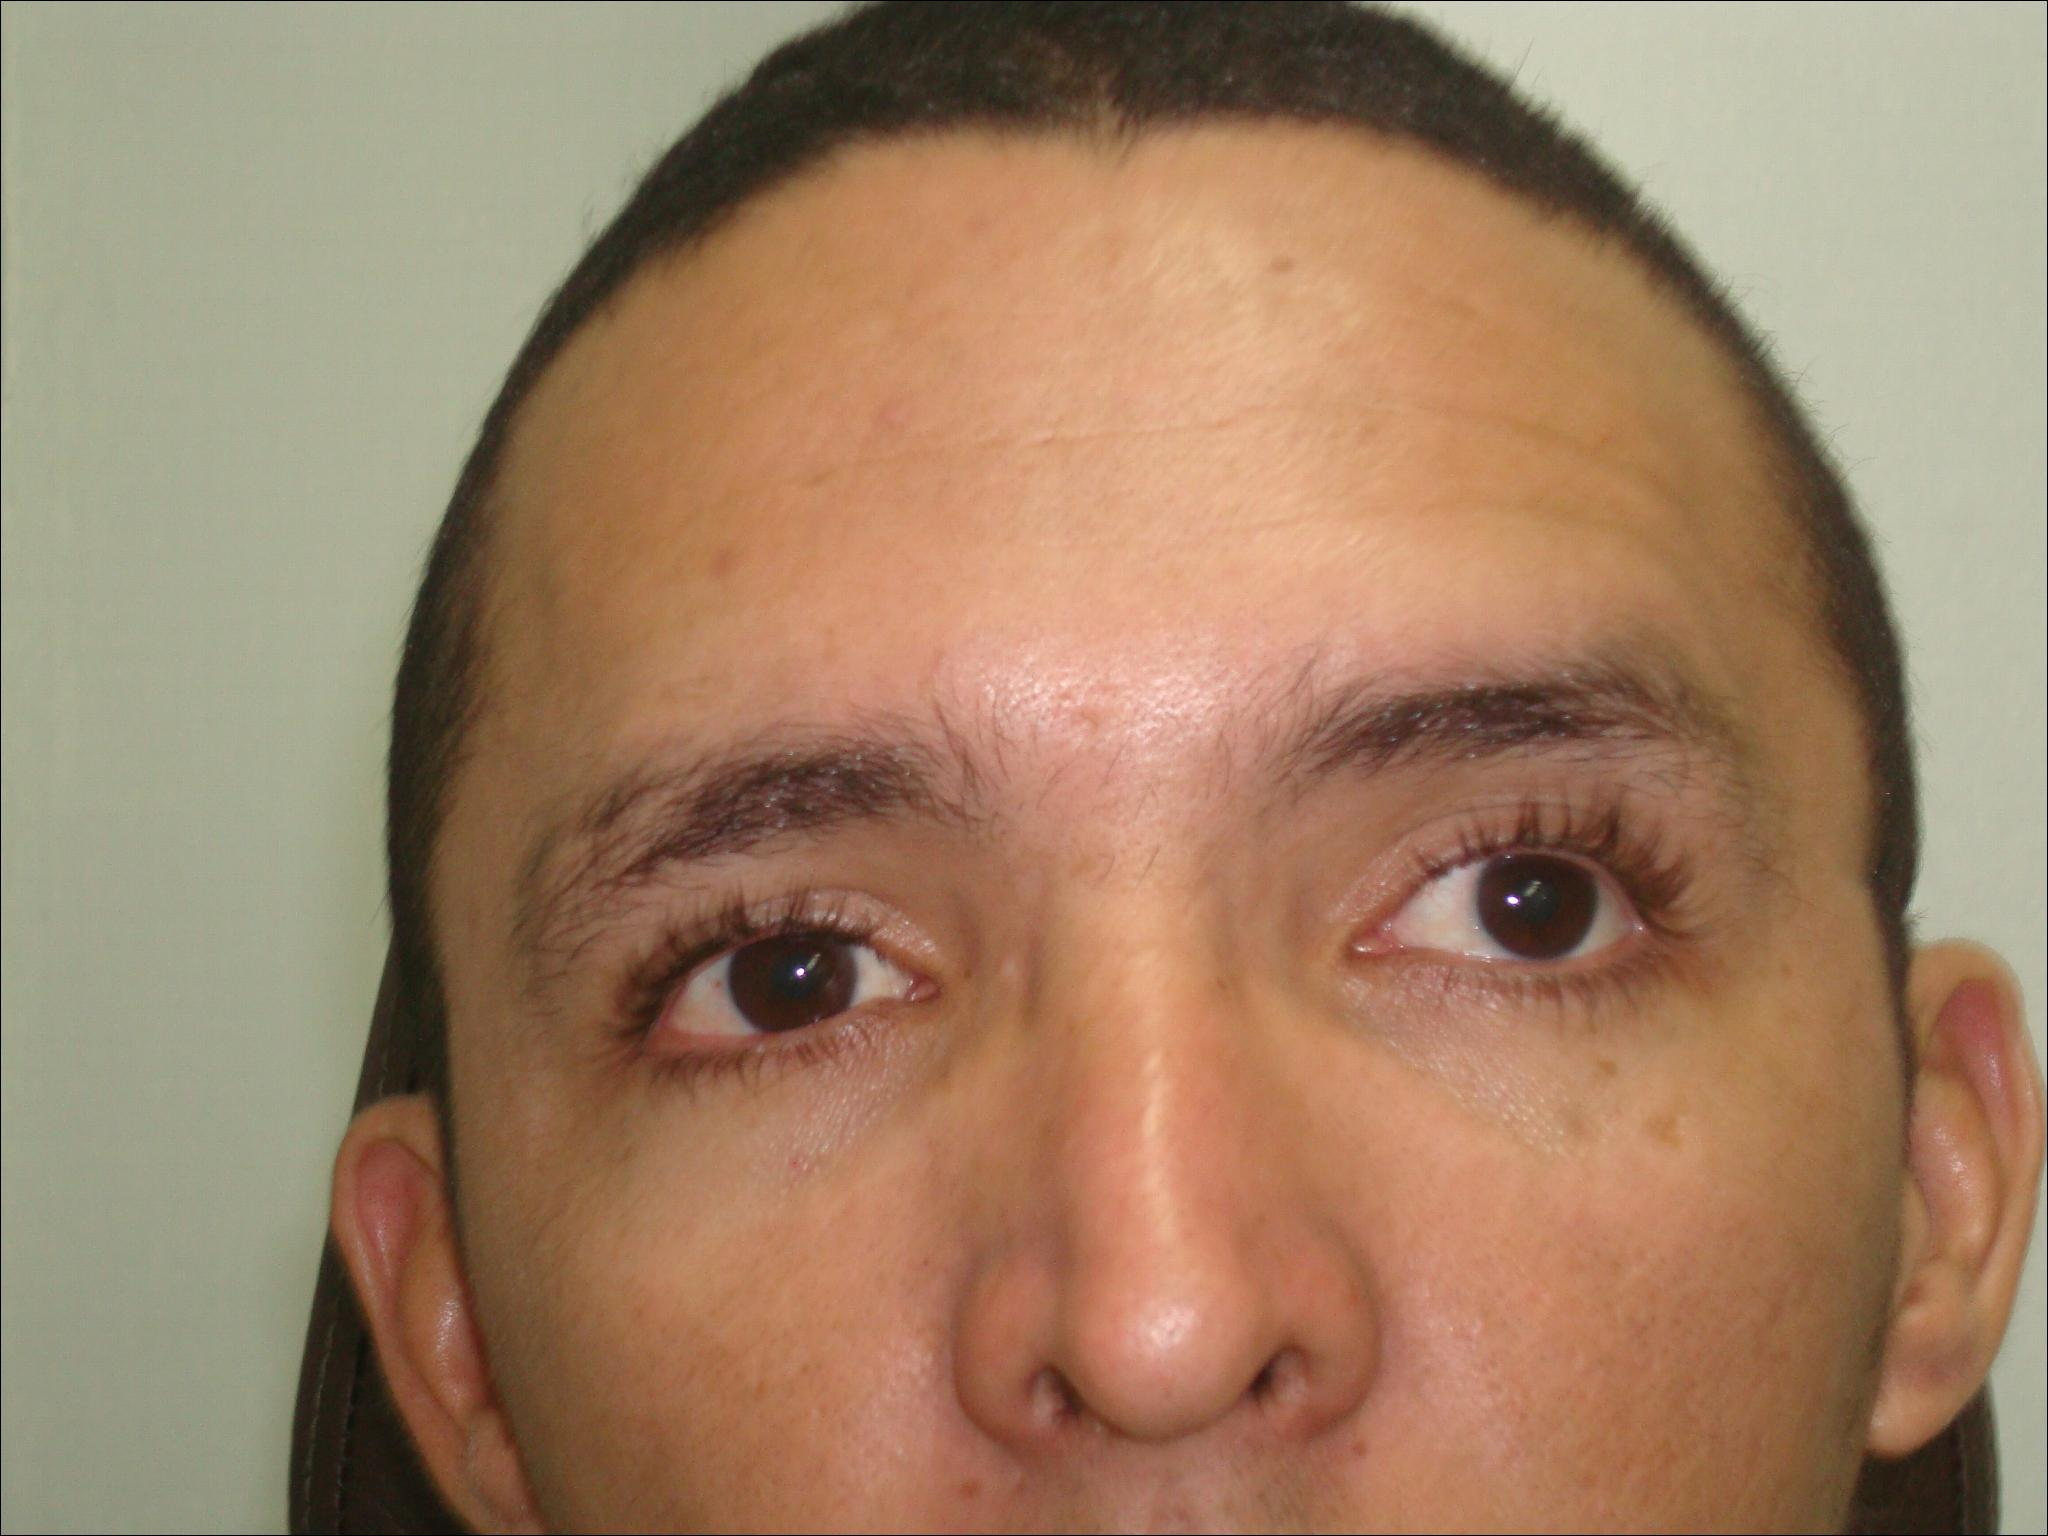flash: (790, 962, 810, 983), (1503, 891, 1522, 910)
limbo: (727, 915, 863, 1033), (1476, 844, 1595, 957)
